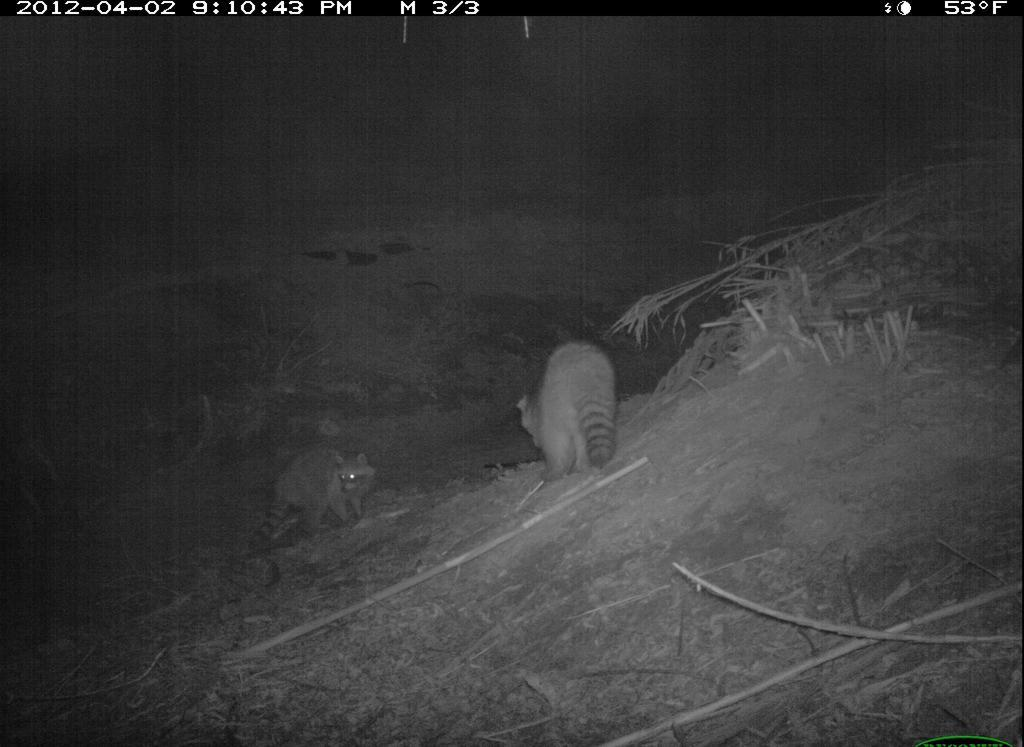raccoon: (510, 335, 634, 498), (249, 438, 381, 552)
